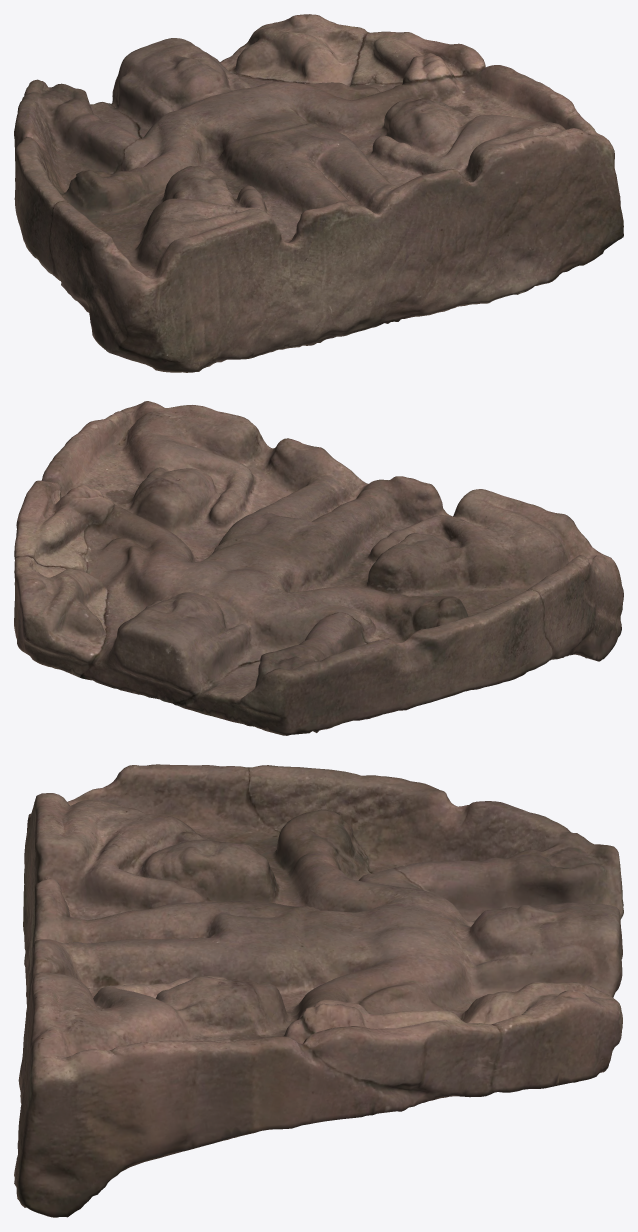
File: MysonMuseum_warehousephudieu3_final.glb
3 renders of one model, top to bottom at view 1: azimuth 30°, elevation 25°; view 2: azimuth 150°, elevation 25°; view 3: azimuth 270°, elevation 25°, orthographic. The views are drawn at different scales.
Size of the model in its own units: 0.6535 by 0.1889 by 0.5171.
1 material, 1 textured.
